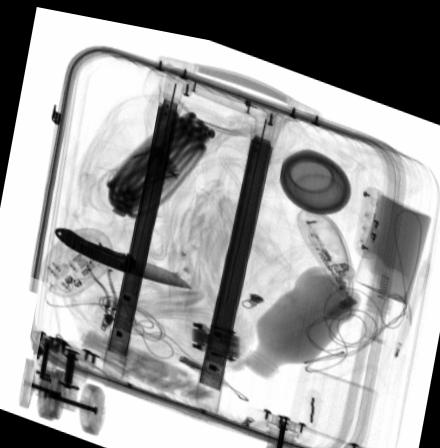Knife: (52, 224, 191, 281)
